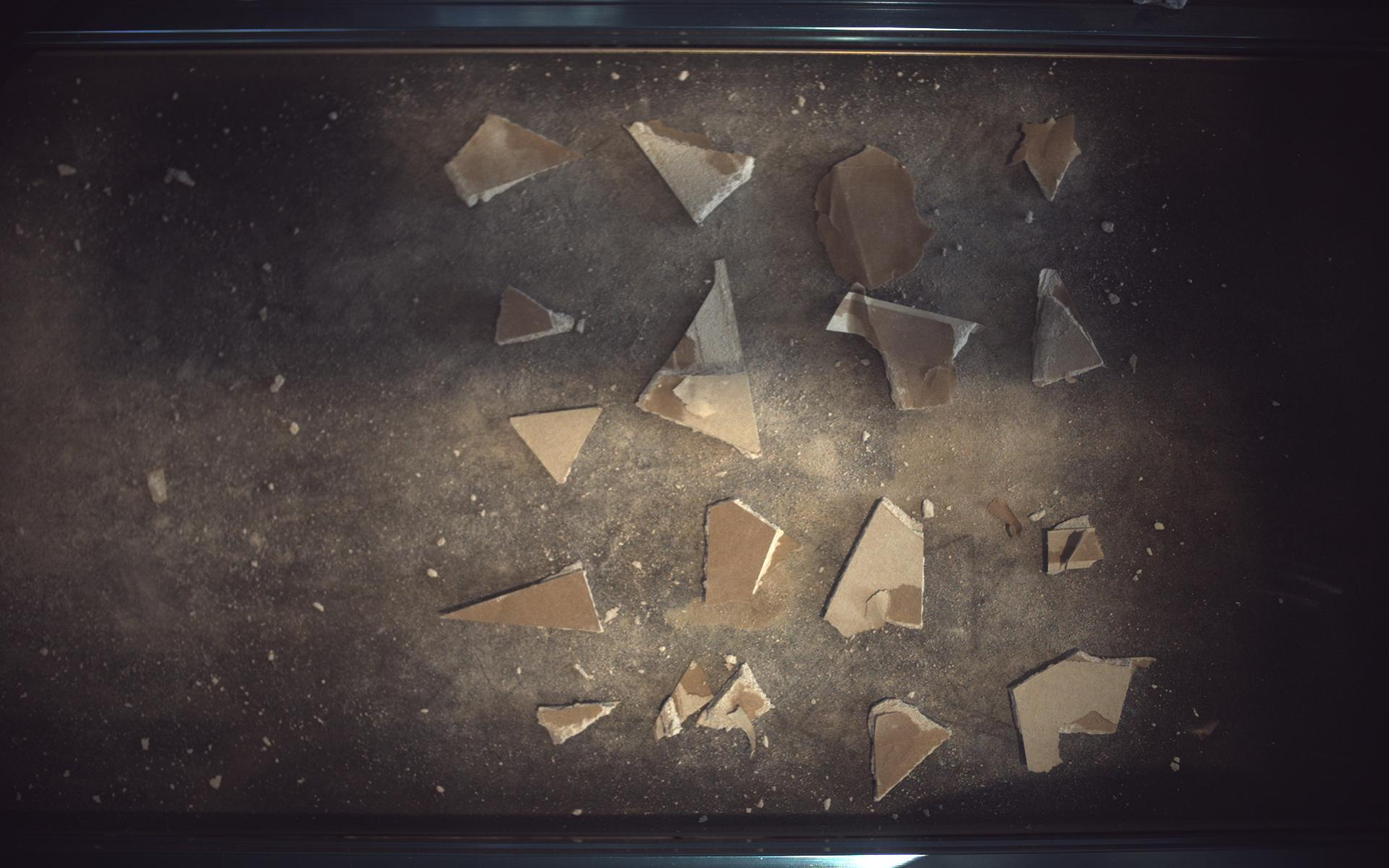gypsum_board: (637, 258, 763, 459), (828, 284, 981, 410), (1013, 652, 1157, 774), (817, 145, 937, 287), (826, 498, 925, 638), (627, 119, 755, 223), (445, 113, 582, 205), (441, 562, 603, 634), (655, 663, 773, 757), (705, 500, 802, 606), (871, 700, 953, 803), (1035, 268, 1106, 386), (510, 407, 602, 484), (1014, 114, 1083, 200), (495, 286, 586, 345), (1049, 516, 1107, 575), (539, 704, 619, 746)
